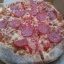pepperoni: (34, 20, 61, 44), (27, 6, 47, 25), (15, 21, 34, 38), (9, 3, 26, 19), (11, 37, 33, 49), (7, 18, 23, 29)
pizza: (1, 1, 64, 62)
